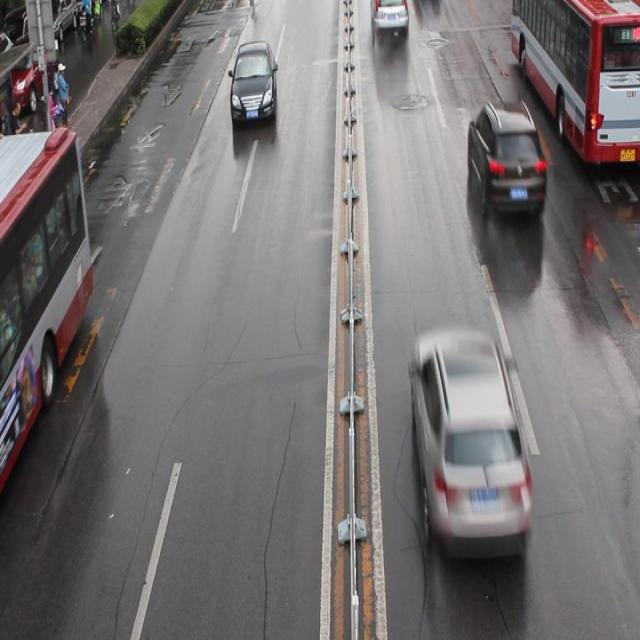car: (410, 333, 531, 554), (466, 101, 544, 213), (230, 41, 279, 121), (10, 38, 61, 114), (371, 2, 408, 34)
van: (1, 130, 94, 502), (508, 1, 640, 161)
